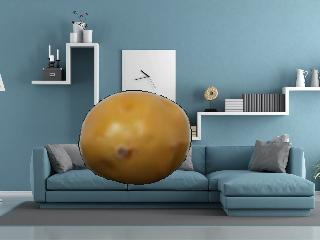potato: (76, 86, 195, 187)
